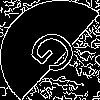G: (25, 25, 90, 85)
